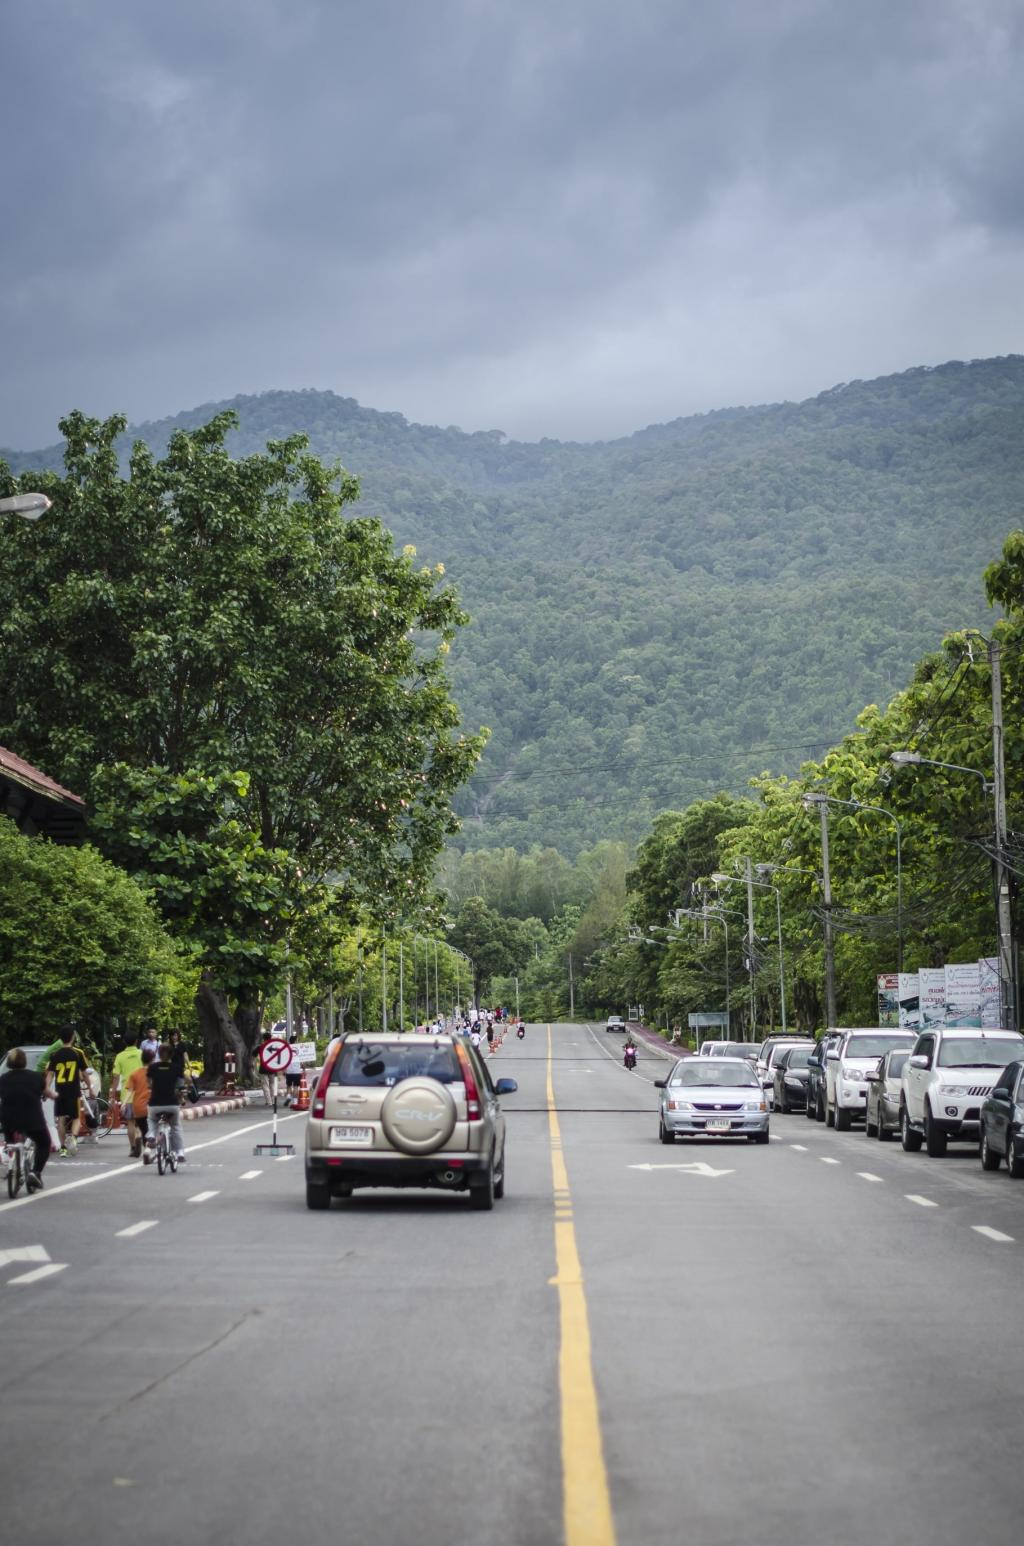car: (280, 1028, 513, 1205), (646, 1039, 765, 1158)
